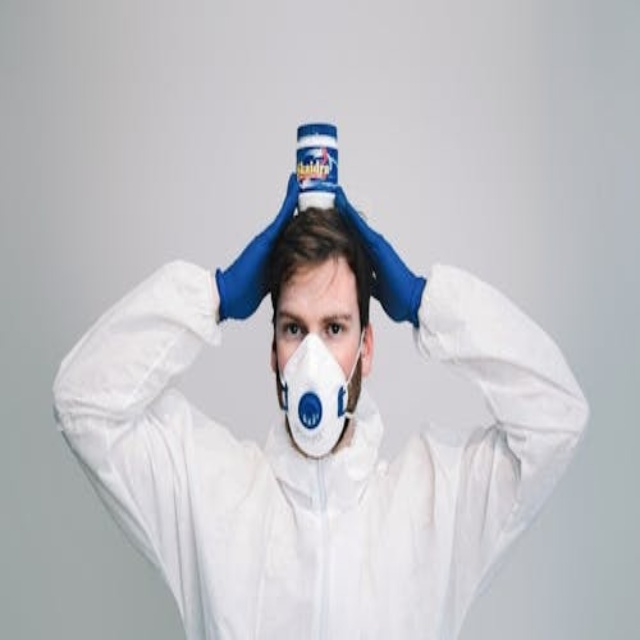Guantes: (216, 174, 302, 323), (337, 189, 427, 327)
Mascara: (280, 330, 358, 456)
Sin_gafas: (274, 294, 357, 348)
